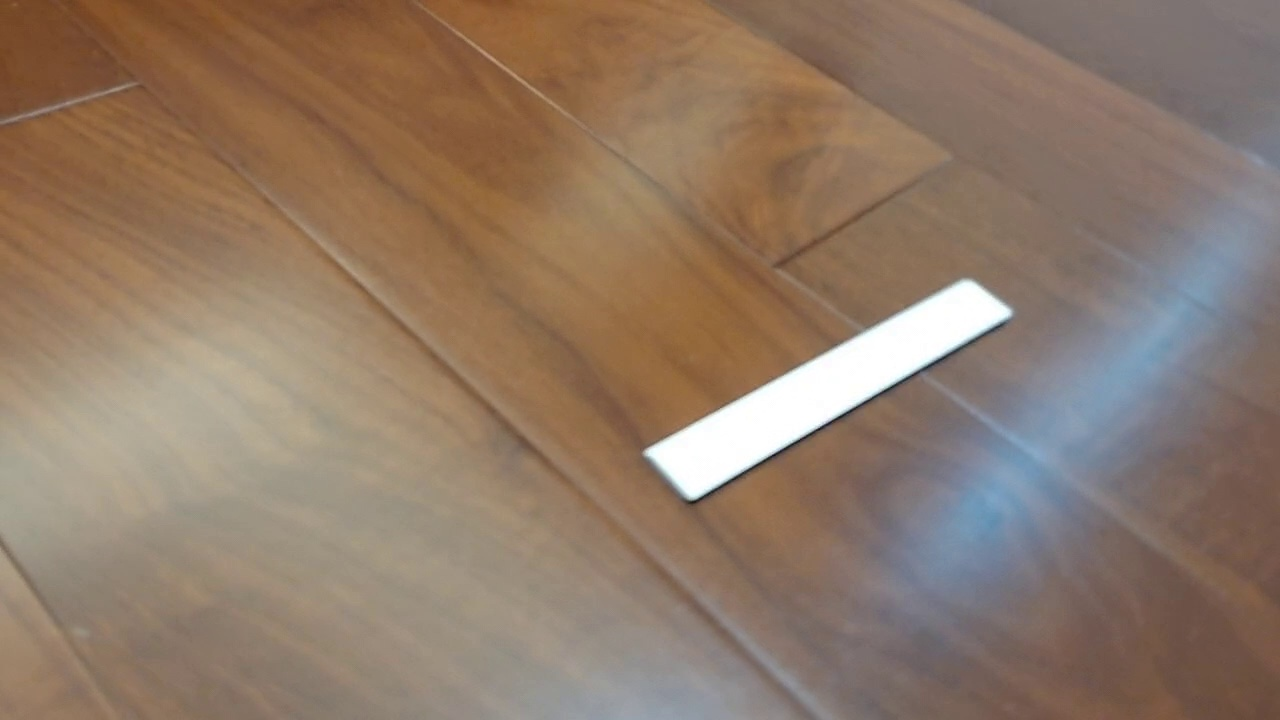ruler: (639, 275, 1016, 506)
